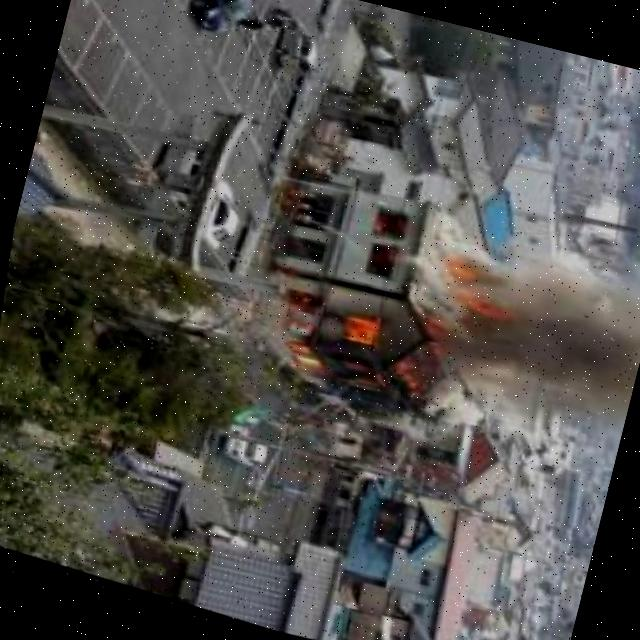fire: (264, 278, 432, 414), (437, 256, 527, 332)
